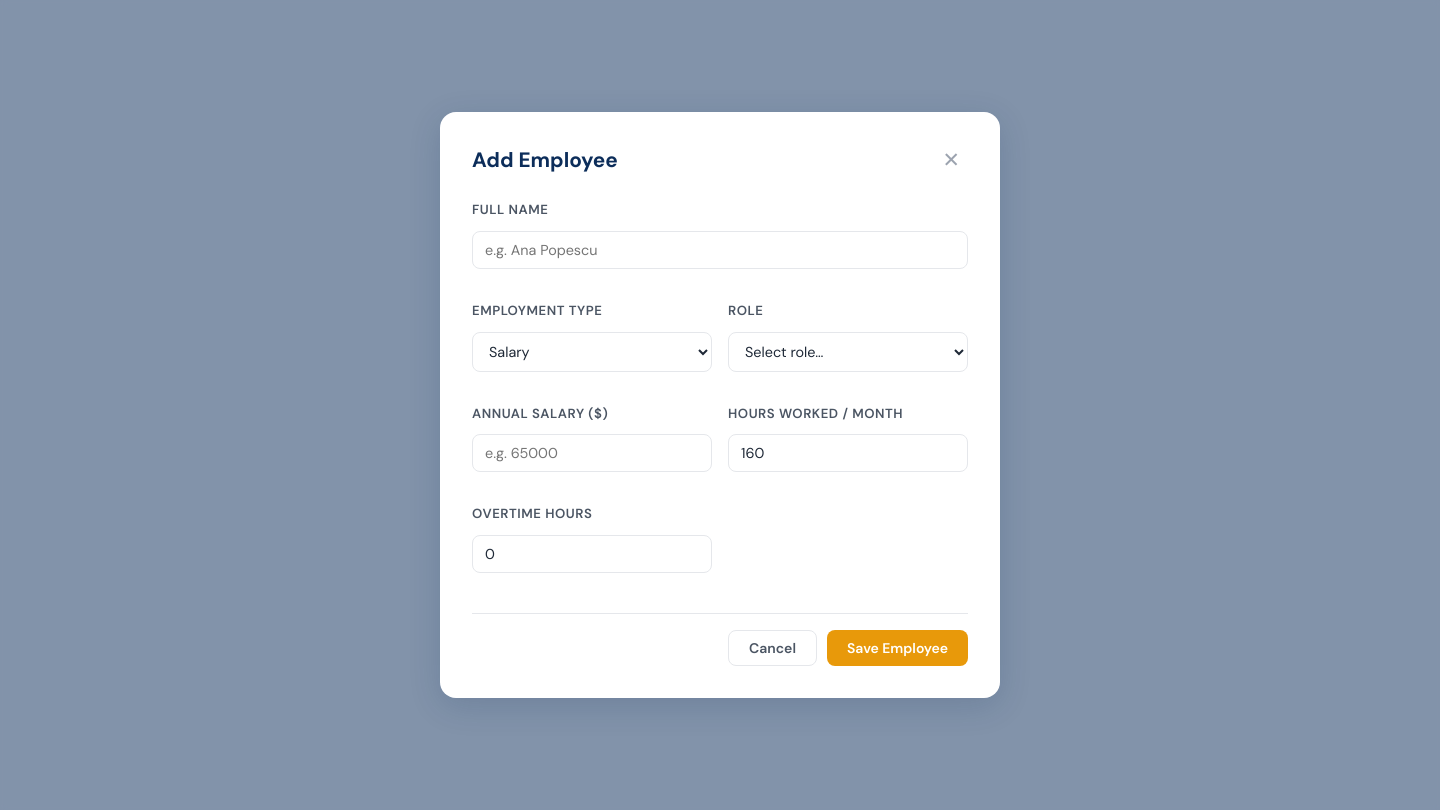
Test case: EmployeeModal › shows hourly rate field when Hourly type is selected
This screenshot has width=1440, height=810.
Select "Hourly" in the dropdown showing "Salary" below "Employment Type" at {"x": 592, "y": 352}, box [472,332,712,372]
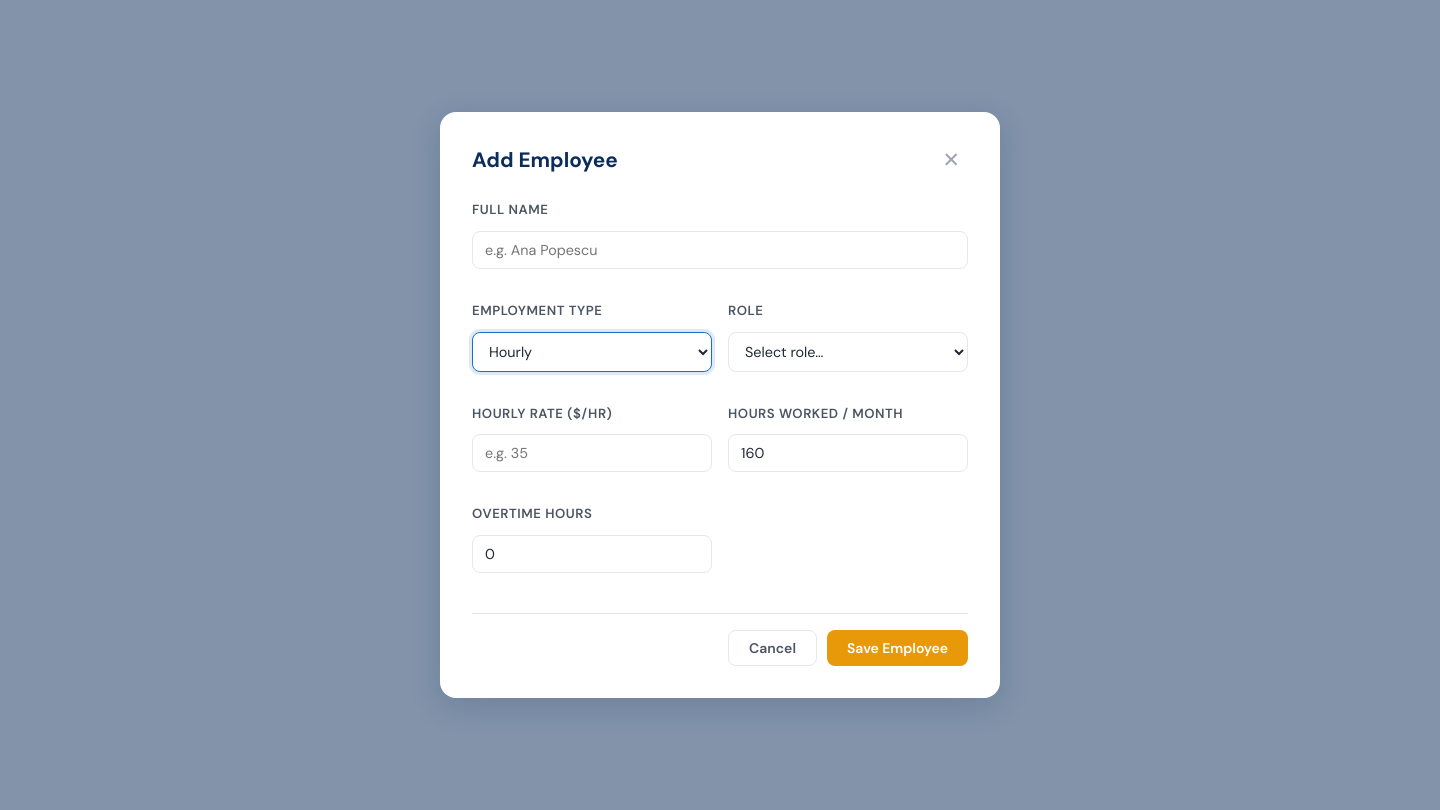
Check: the number field with placeholder "e.g. 35" is shown, box [472,434,712,472]
